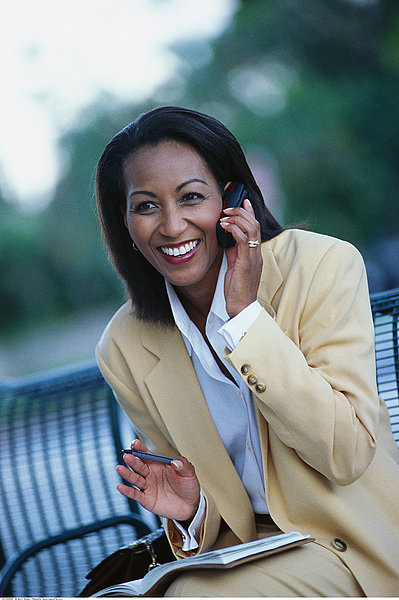phone: (214, 192, 265, 276)
talk: (130, 177, 268, 305)
